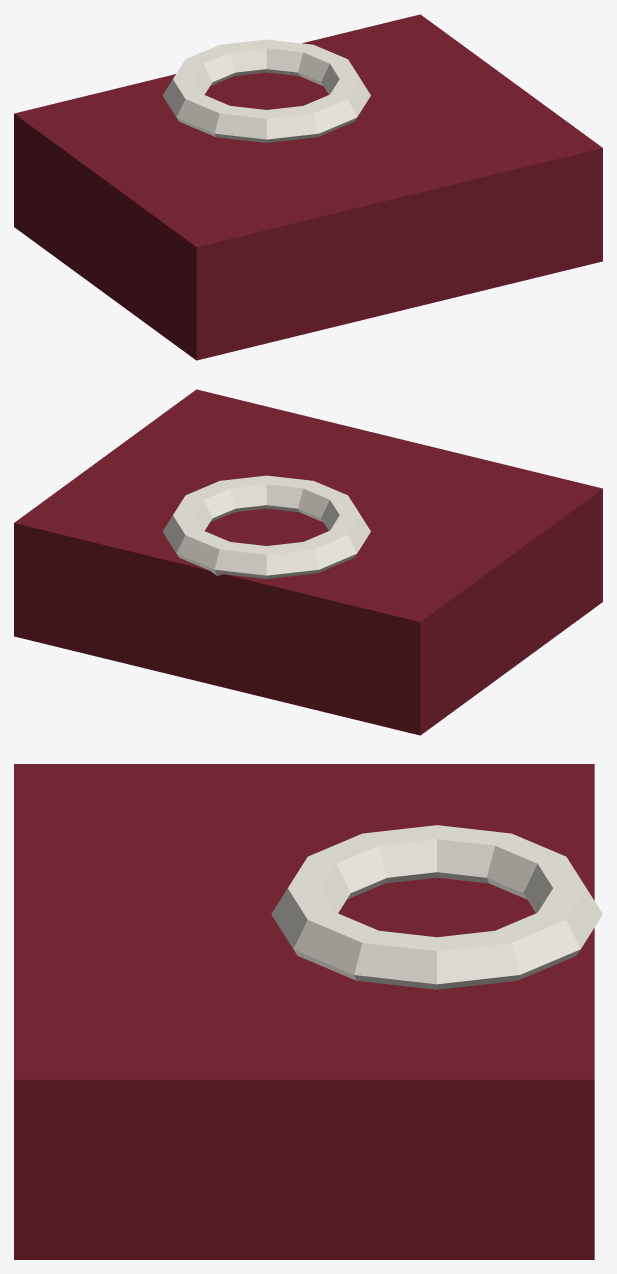
Rendered from folded_robe.glb.
3 views of the same model, one above another, from view 1: azimuth 30°, elevation 25°; view 2: azimuth 150°, elevation 25°; view 3: azimuth 270°, elevation 25° (orthographic). The views are drawn at different scales.
Visible parts, largest first — view 1: robe_robe_cloth, collar_robe_collar; view 2: robe_robe_cloth, collar_robe_collar; view 3: robe_robe_cloth, collar_robe_collar.
Boxes of the visible parts, x1,y1,x2,y2 form: robe_robe_cloth: (14, 14, 602, 360); collar_robe_collar: (162, 39, 370, 142); robe_robe_cloth: (14, 389, 602, 735); collar_robe_collar: (162, 475, 370, 578); robe_robe_cloth: (14, 764, 594, 1259); collar_robe_collar: (271, 825, 602, 989).
Size of the model in its own units: 0.45 by 0.1423 by 0.355.
